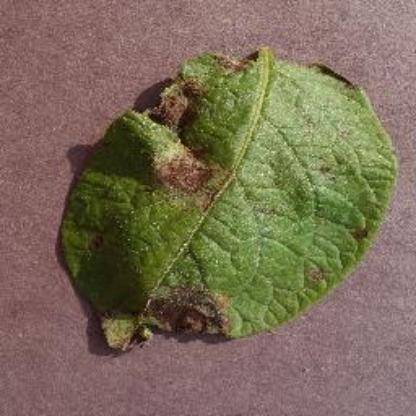Late-Blight: (70, 40, 396, 354)
